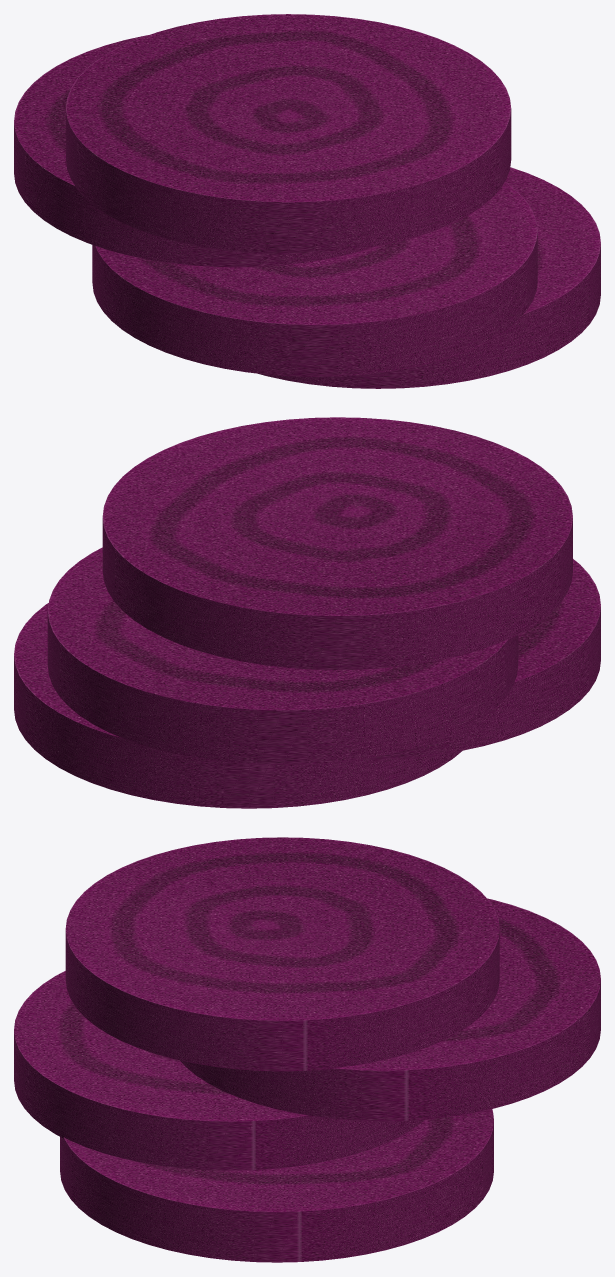
File: CookedBeetroots.fbx
3 views of the same model, one above another, from view 1: azimuth 30°, elevation 25°; view 2: azimuth 150°, elevation 25°; view 3: azimuth 270°, elevation 25° (orthographic). The views are drawn at different scales.
Visible parts, largest first — view 1: pCylinder4, pCylinder2, pCylinder1, pCylinder3; view 2: pCylinder4, pCylinder3, pCylinder1, pCylinder2; view 3: pCylinder4, pCylinder1, pCylinder3, pCylinder2.
Part boxes in pixels (x1,y1,x2,y2): pCylinder4: [66, 14, 511, 254]; pCylinder2: [92, 182, 537, 376]; pCylinder1: [258, 167, 600, 388]; pCylinder3: [14, 35, 374, 267]; pCylinder4: [102, 417, 572, 669]; pCylinder3: [47, 547, 518, 764]; pCylinder1: [14, 603, 462, 808]; pCylinder2: [362, 559, 600, 759]; pCylinder4: [65, 837, 499, 1071]; pCylinder1: [60, 1109, 493, 1262]; pCylinder3: [180, 898, 600, 1121]; pCylinder2: [14, 971, 424, 1170].
Bounding box in the file's own units: 1.47 × 0.6114 × 1.62.
Materials: 1 (1 with a texture image).
